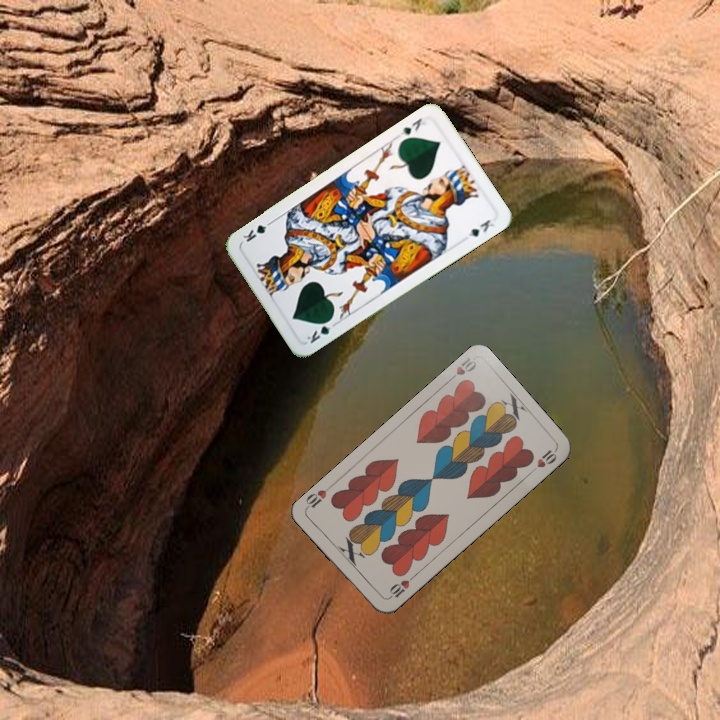GK: (303, 314, 339, 346), (396, 114, 428, 138)
H10: (443, 353, 479, 385), (384, 572, 418, 602)
